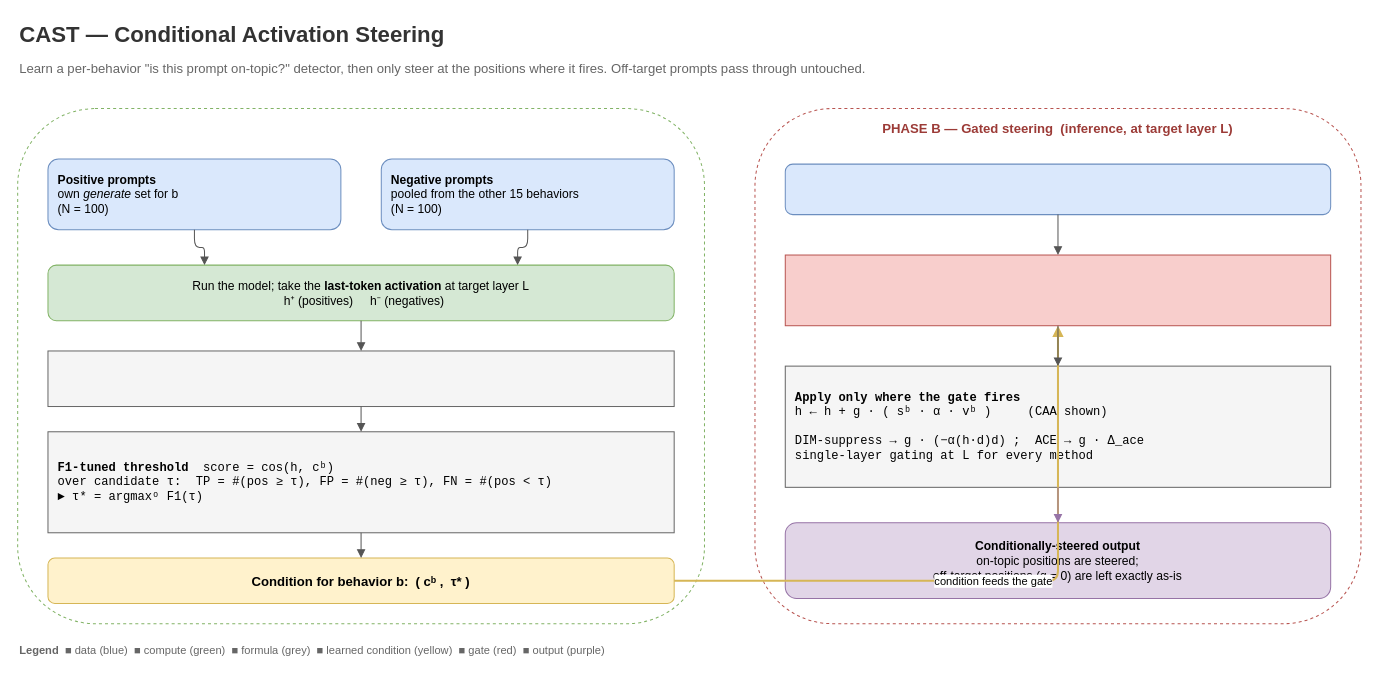
The diagram is 1379 pixels wide and 680 high, and some of its shapes have lost their labels. Each missing label, with the box of its shape:
Condition direction cᵇ = normalize( mean(h⁺) − mean(h⁻) ): (47, 350, 674, 407)
Gate (per position) g = 1[ cos(h, cᵇ) ≥ τ* ] ∈ {0, 1}: (784, 254, 1331, 326)
Hidden state h at each token position (layer L): (784, 163, 1331, 215)
PHASE A — Learn the condition (offline, once per behavior b): (17, 108, 704, 624)
